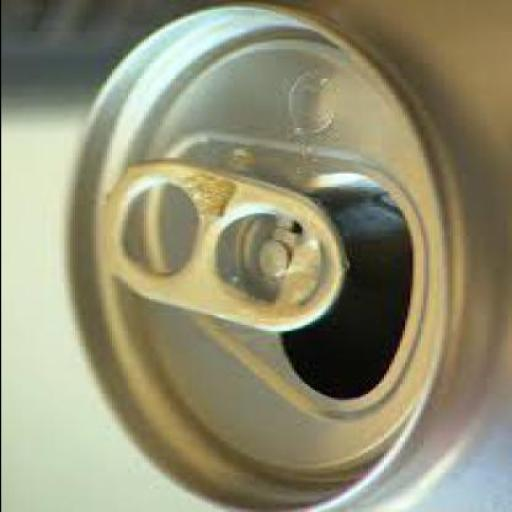metal: (58, 0, 509, 511), (98, 158, 344, 331)
